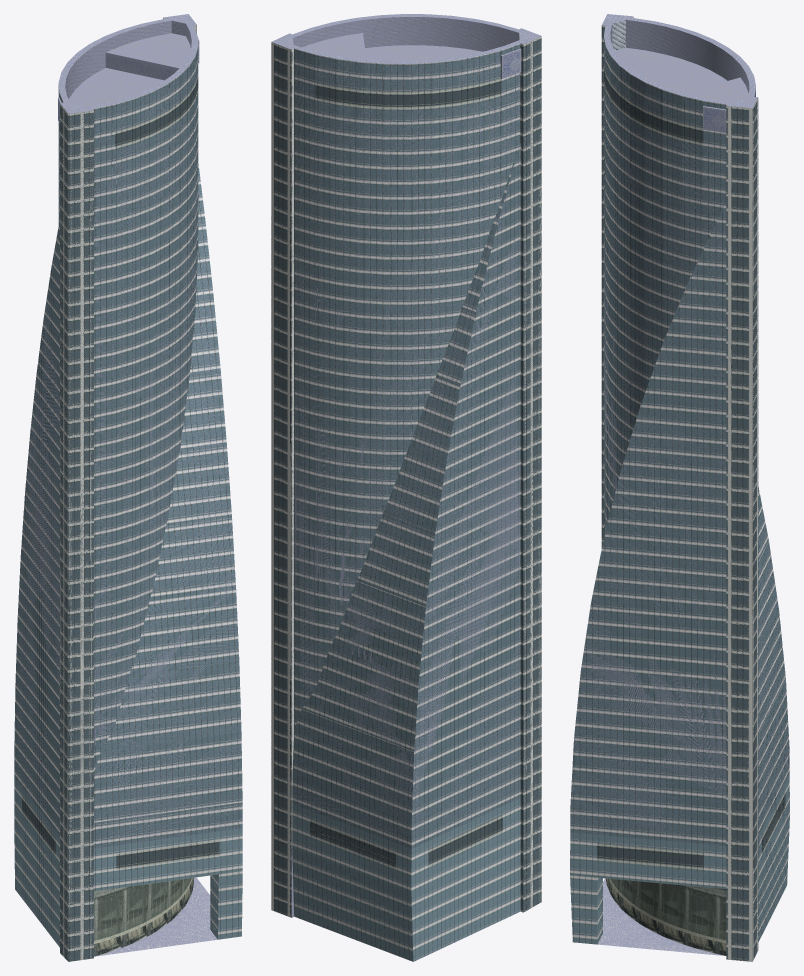
Rendered from Torre_Espacio.fbx.
The picture shows the model from 3 angles, left to right: view 1: azimuth 30°, elevation 25°; view 2: azimuth 150°, elevation 25°; view 3: azimuth 270°, elevation 25°; orthographic projection. The views are drawn at different scales.
Visible parts, largest first — view 1: Model; view 2: Model; view 3: Model.
Part boxes in pixels (x1=…): Model: x1=14, y1=14, x2=242, y2=961; Model: x1=271, y1=14, x2=541, y2=961; Model: x1=570, y1=14, x2=789, y2=961.
Bounding box in the file's own units: 52.99 × 224 × 52.21.
